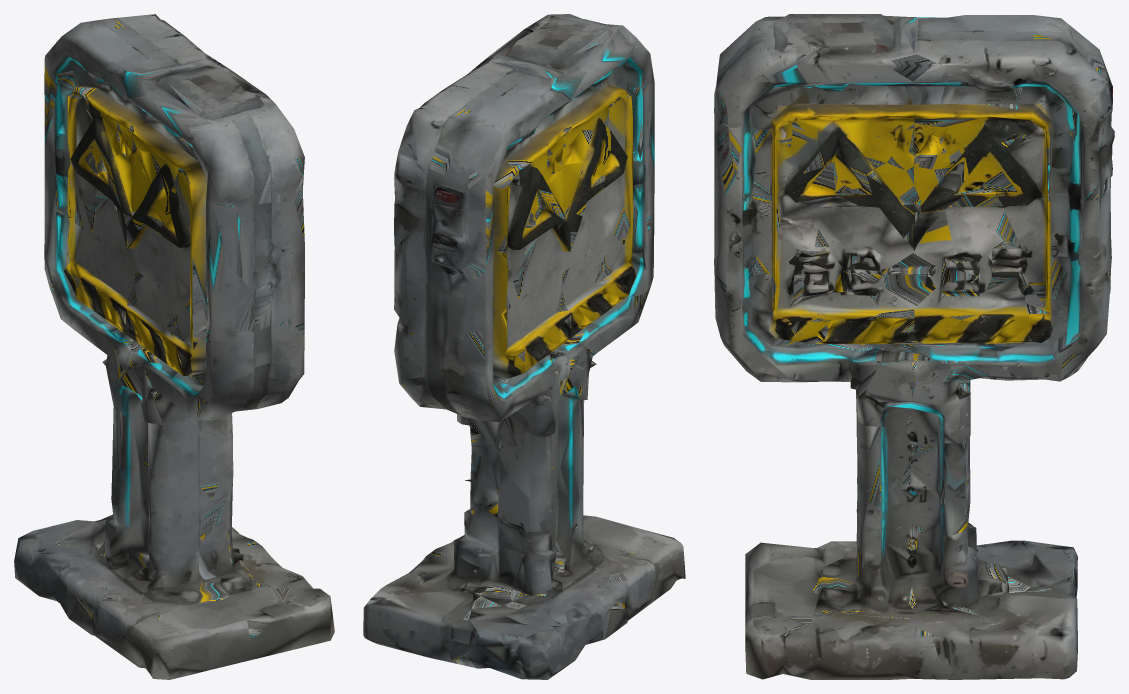
File: warning_sign.glb
3 renders of one model, left to right at view 1: azimuth 30°, elevation 25°; view 2: azimuth 150°, elevation 25°; view 3: azimuth 270°, elevation 25°, orthographic. The views are drawn at different scales.
Visible parts, largest first — view 1: tripo_node_0975b6ca-bcc4-4ec5-b9ad-050af4069ea9; view 2: tripo_node_0975b6ca-bcc4-4ec5-b9ad-050af4069ea9; view 3: tripo_node_0975b6ca-bcc4-4ec5-b9ad-050af4069ea9.
Part boxes in pixels (x1,y1,x2,y2): tripo_node_0975b6ca-bcc4-4ec5-b9ad-050af4069ea9: (14, 14, 334, 679); tripo_node_0975b6ca-bcc4-4ec5-b9ad-050af4069ea9: (363, 14, 685, 679); tripo_node_0975b6ca-bcc4-4ec5-b9ad-050af4069ea9: (714, 14, 1114, 679).
Bounding box in the file's own units: 0.3576 × 0.9998 × 0.6026.
Materials: 1 (1 with a texture image).
